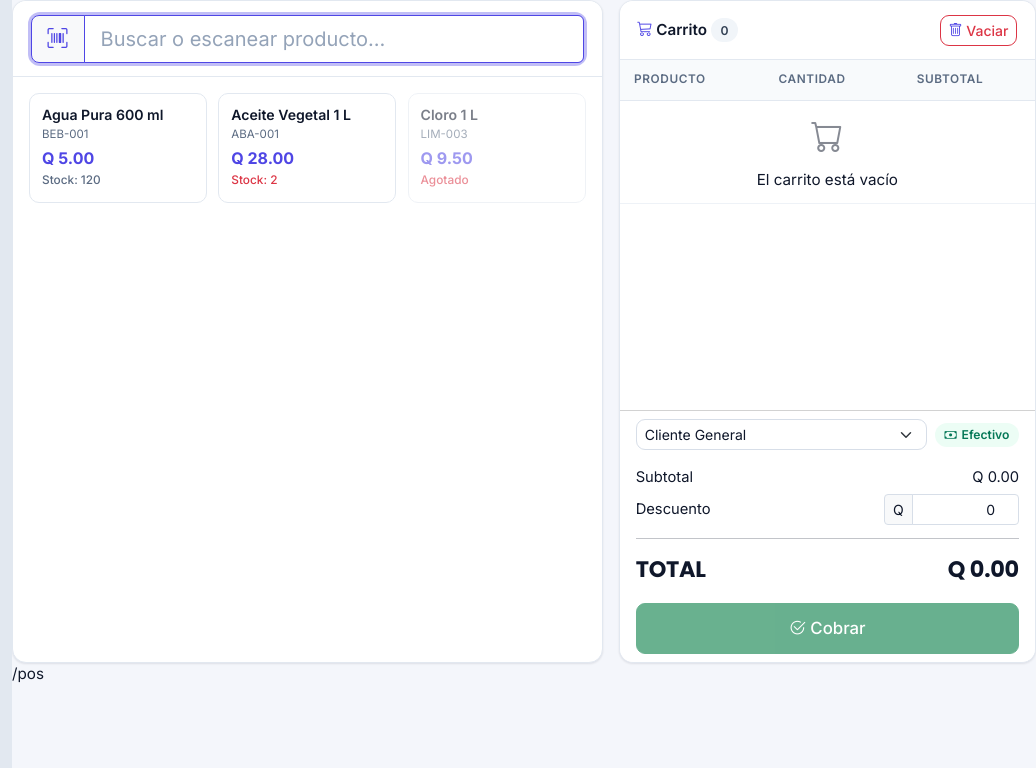
Test: Punto de venta › el descuento no puede superar el subtotal
Click the button with aria-label "Agregar Agua" at (118, 148), box [29,93,207,203]
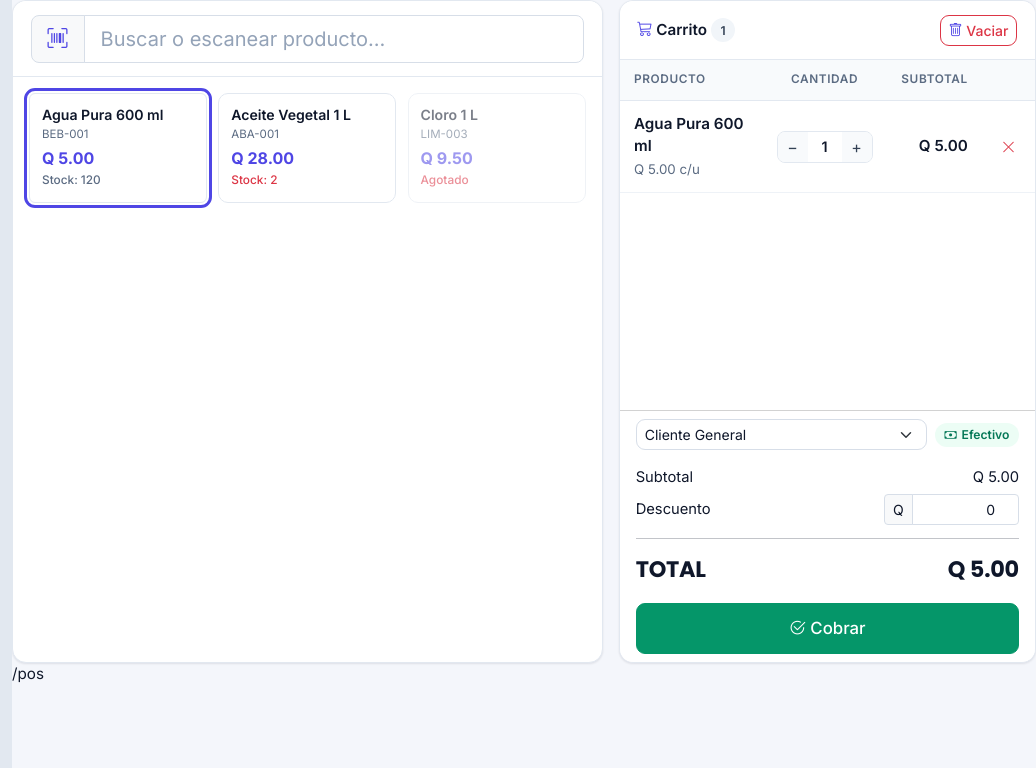
Replace the text in the number field labelled "Descuento" with "50" at (965, 509), box [912,494,1019,525]
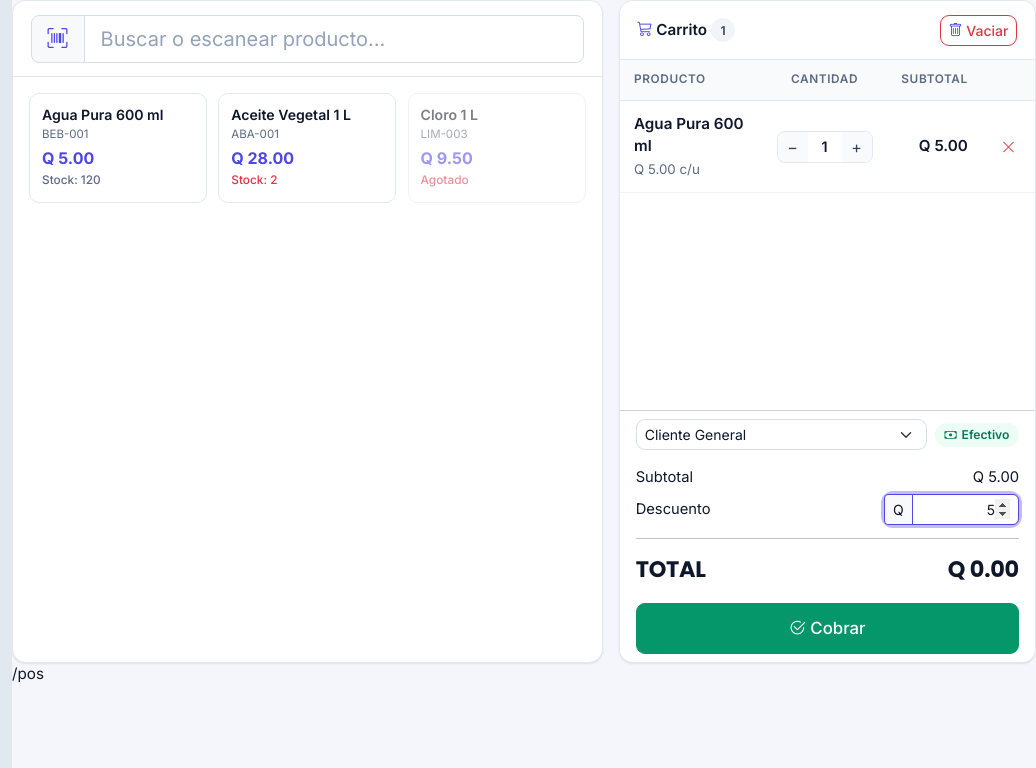
Expected: the number field labelled "Descuento" holds "5", [912,494,1019,525]
